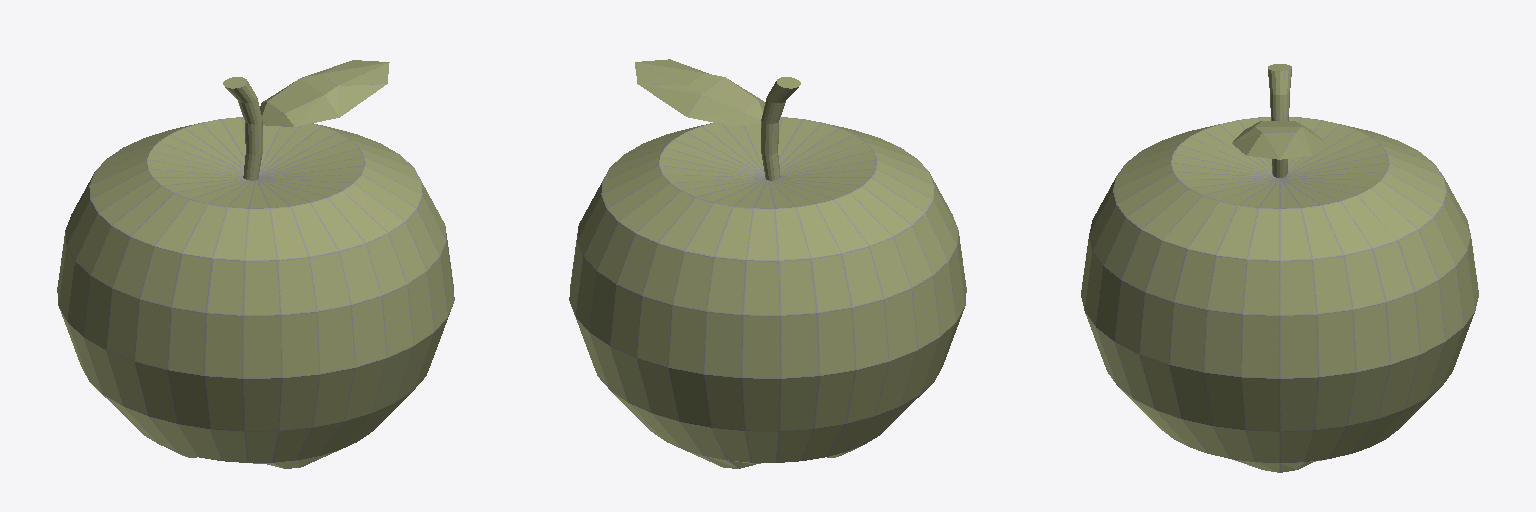
3 views of the same model, side by side, from view 1: azimuth 30°, elevation 25°; view 2: azimuth 150°, elevation 25°; view 3: azimuth 270°, elevation 25° (orthographic).
Visible parts, largest first — view 1: sphere1, sphere5, cylinder3; view 2: sphere1, sphere5, cylinder3; view 3: sphere1, sphere5, cylinder3.
Boxes of the visible parts, box(x1,y1,x2,y2) form: sphere1: box(57, 117, 454, 468); sphere5: box(260, 60, 389, 126); cylinder3: box(223, 77, 262, 180); sphere1: box(569, 117, 966, 468); sphere5: box(635, 59, 764, 125); cylinder3: box(761, 77, 800, 180); sphere1: box(1081, 117, 1478, 472); sphere5: box(1232, 121, 1324, 159); cylinder3: box(1268, 64, 1291, 177).
Size of the model in its own units: 2.2 by 2.19 by 2.2.
Materials: 3 (3 with a texture image).